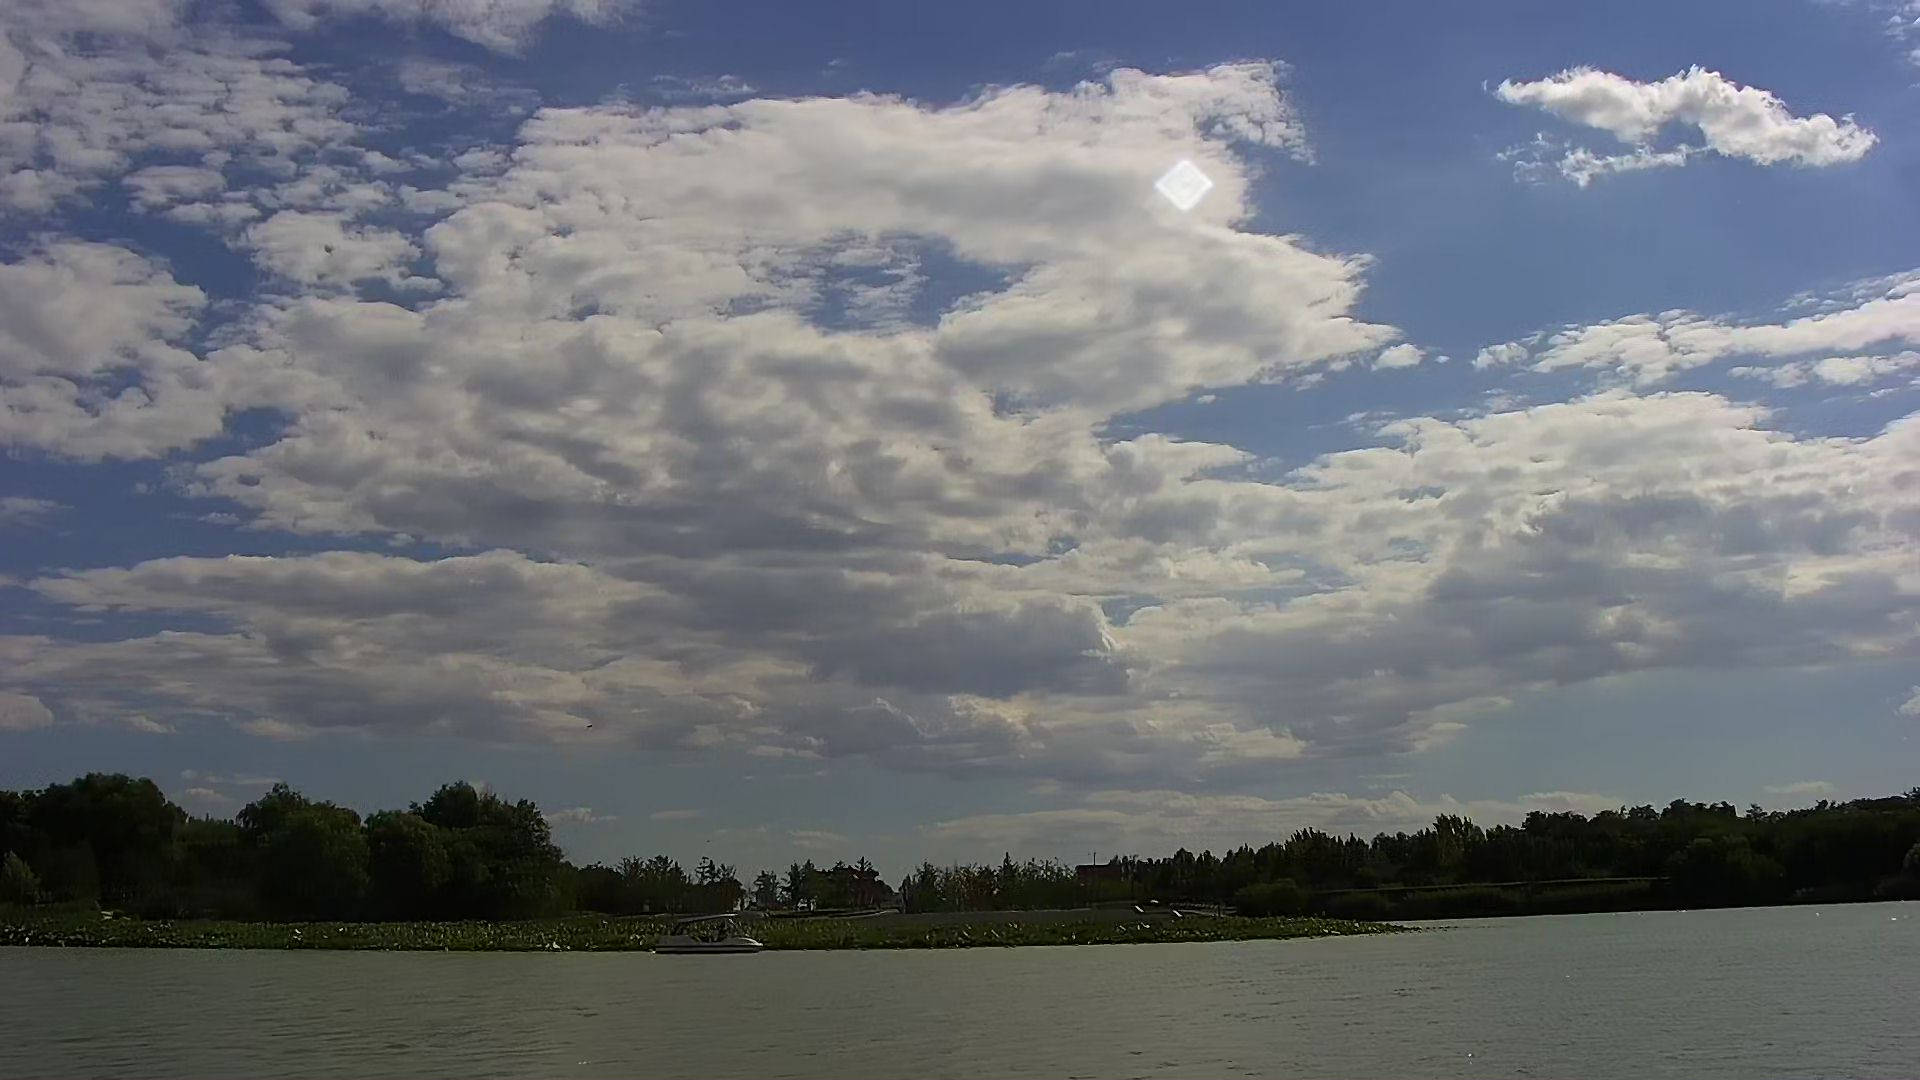boat: (653, 910, 771, 960)
